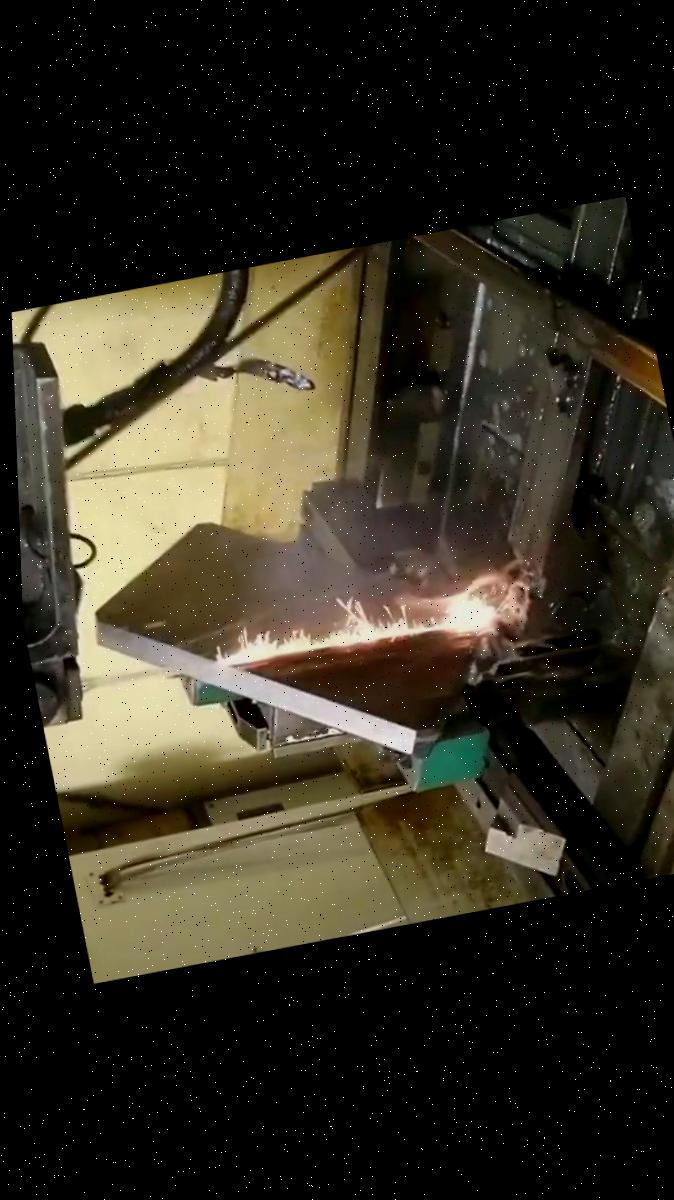fire: (101, 537, 576, 705)
